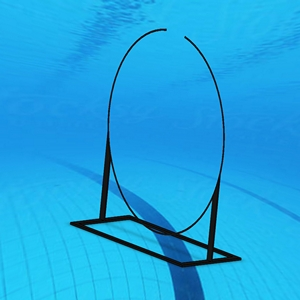circle: (68, 25, 247, 273)
